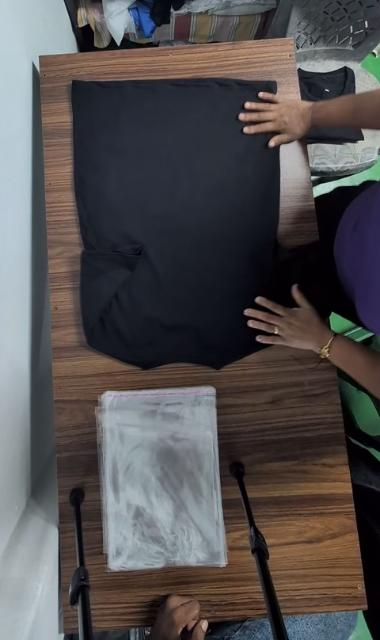new-garment: (72, 78, 279, 368)
